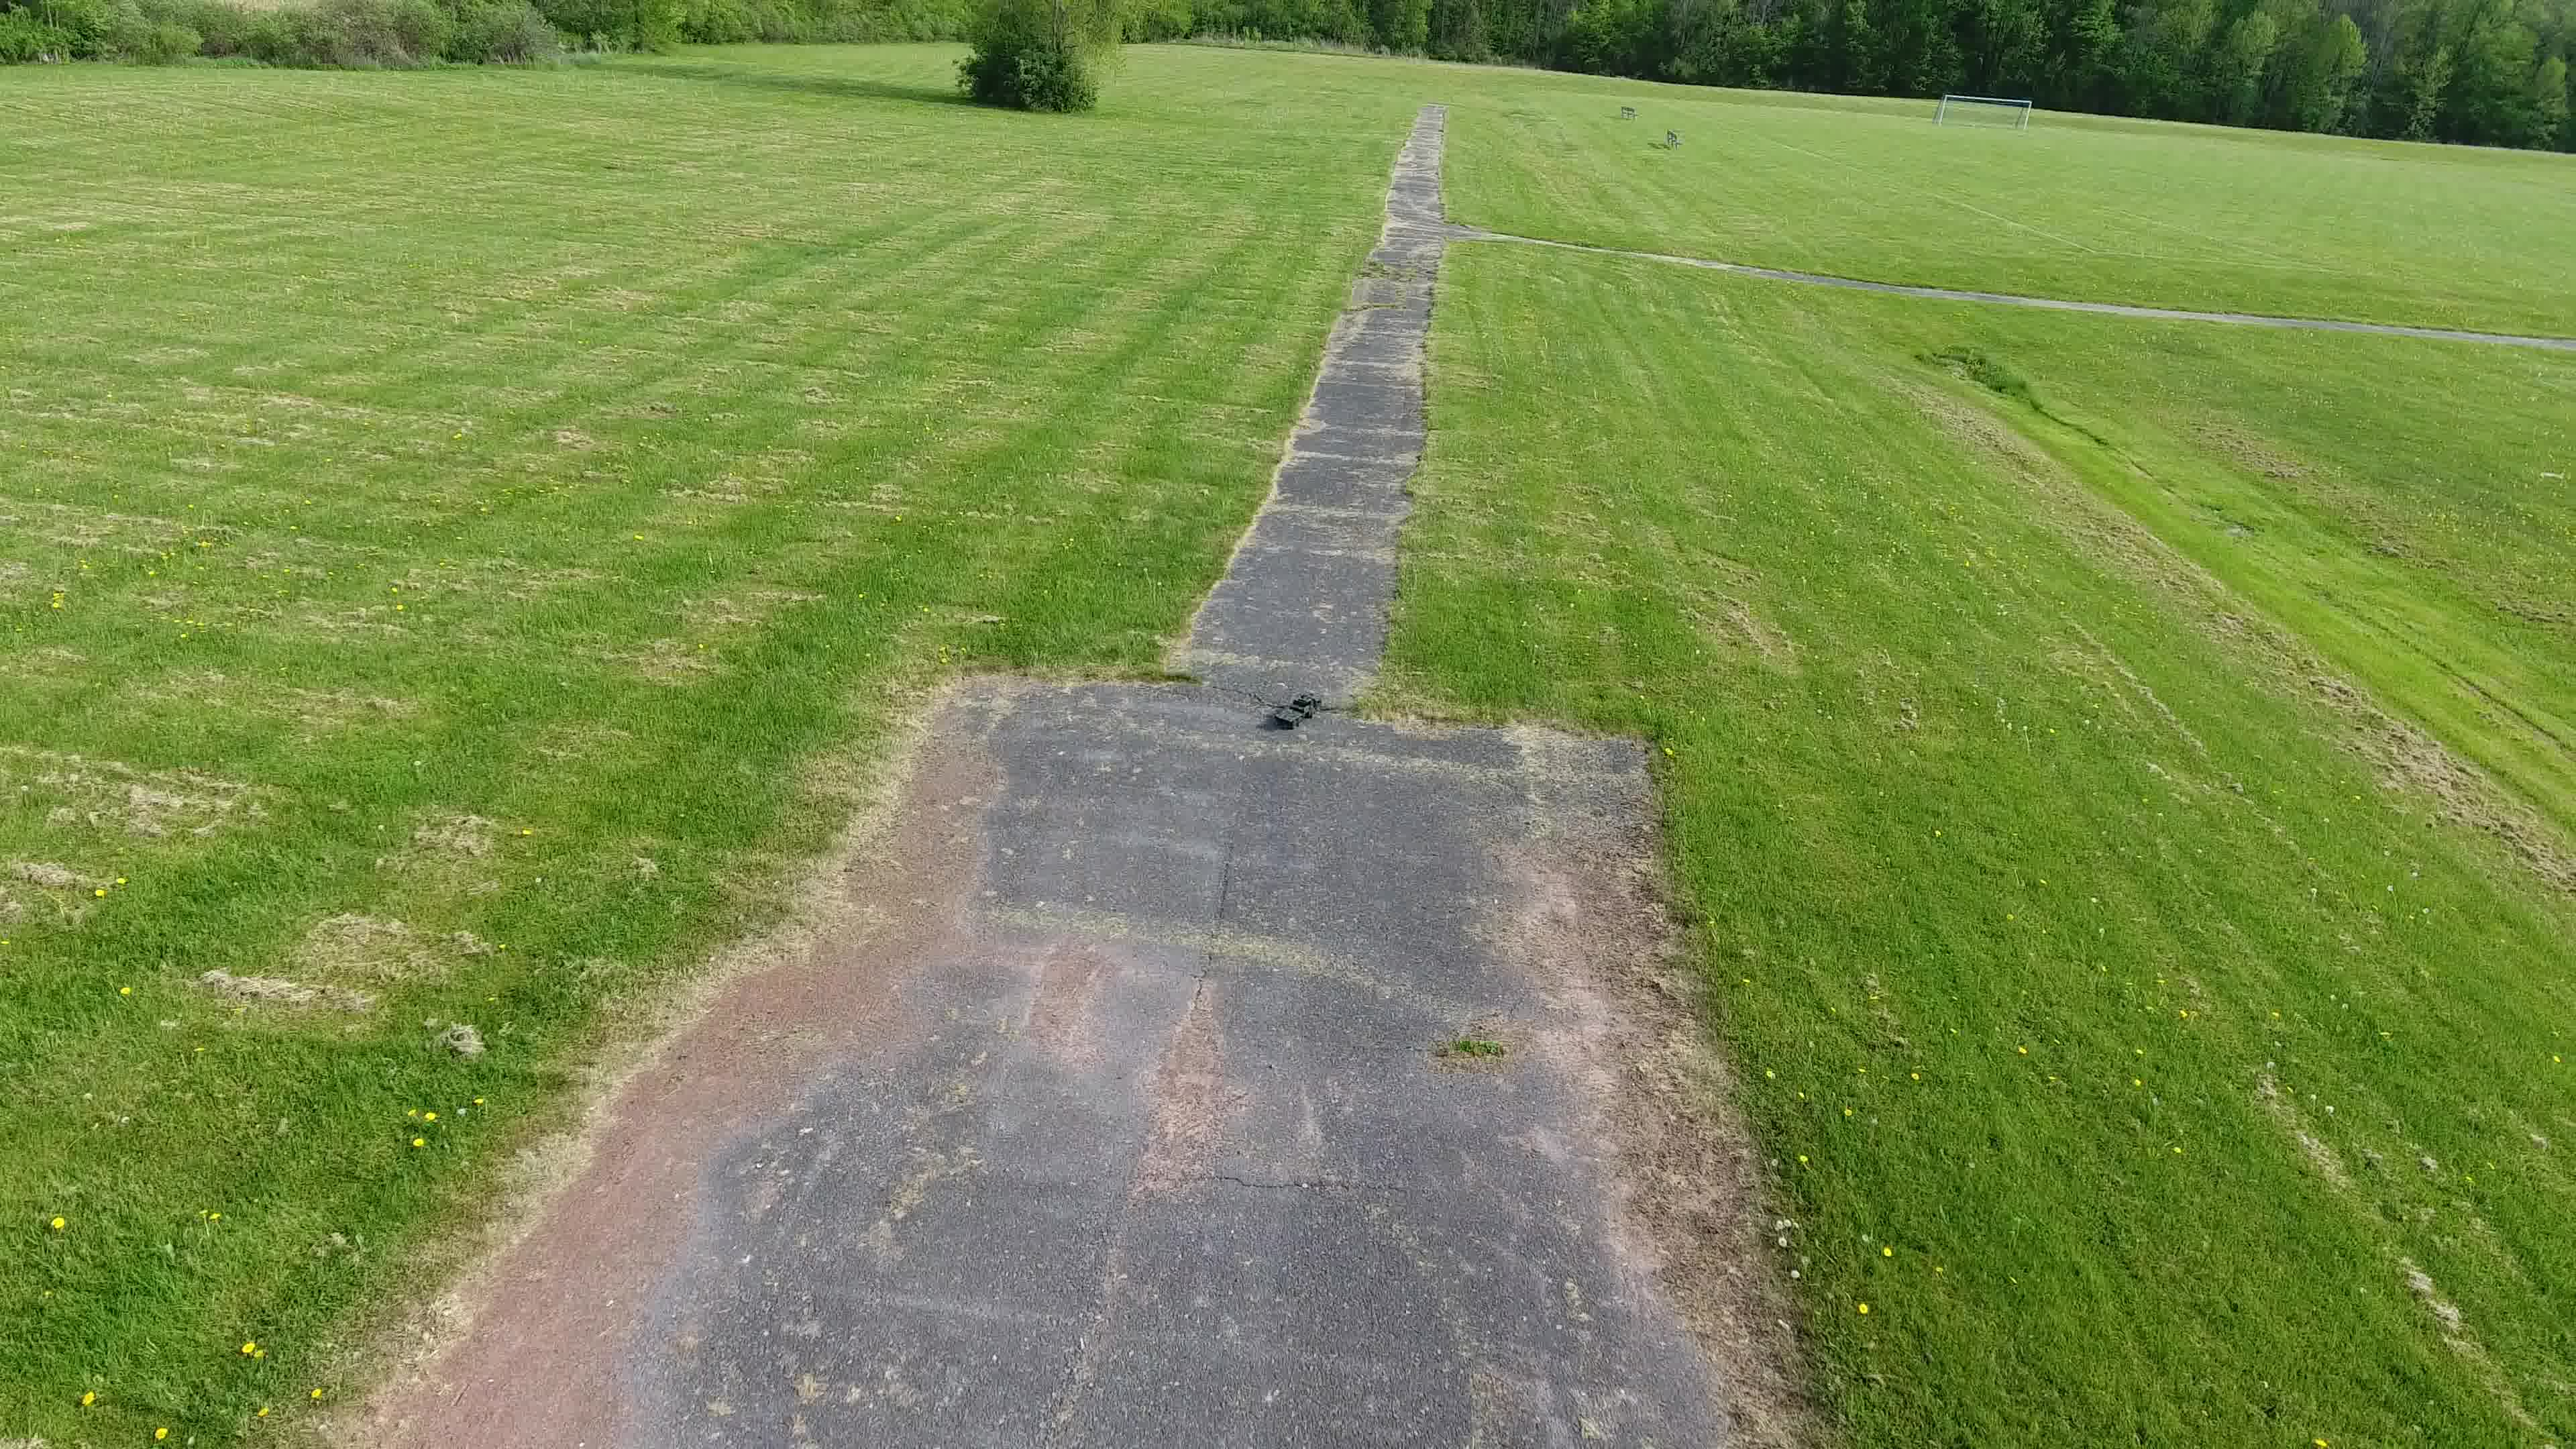transporter9_camo: (1272, 692, 1322, 732)
